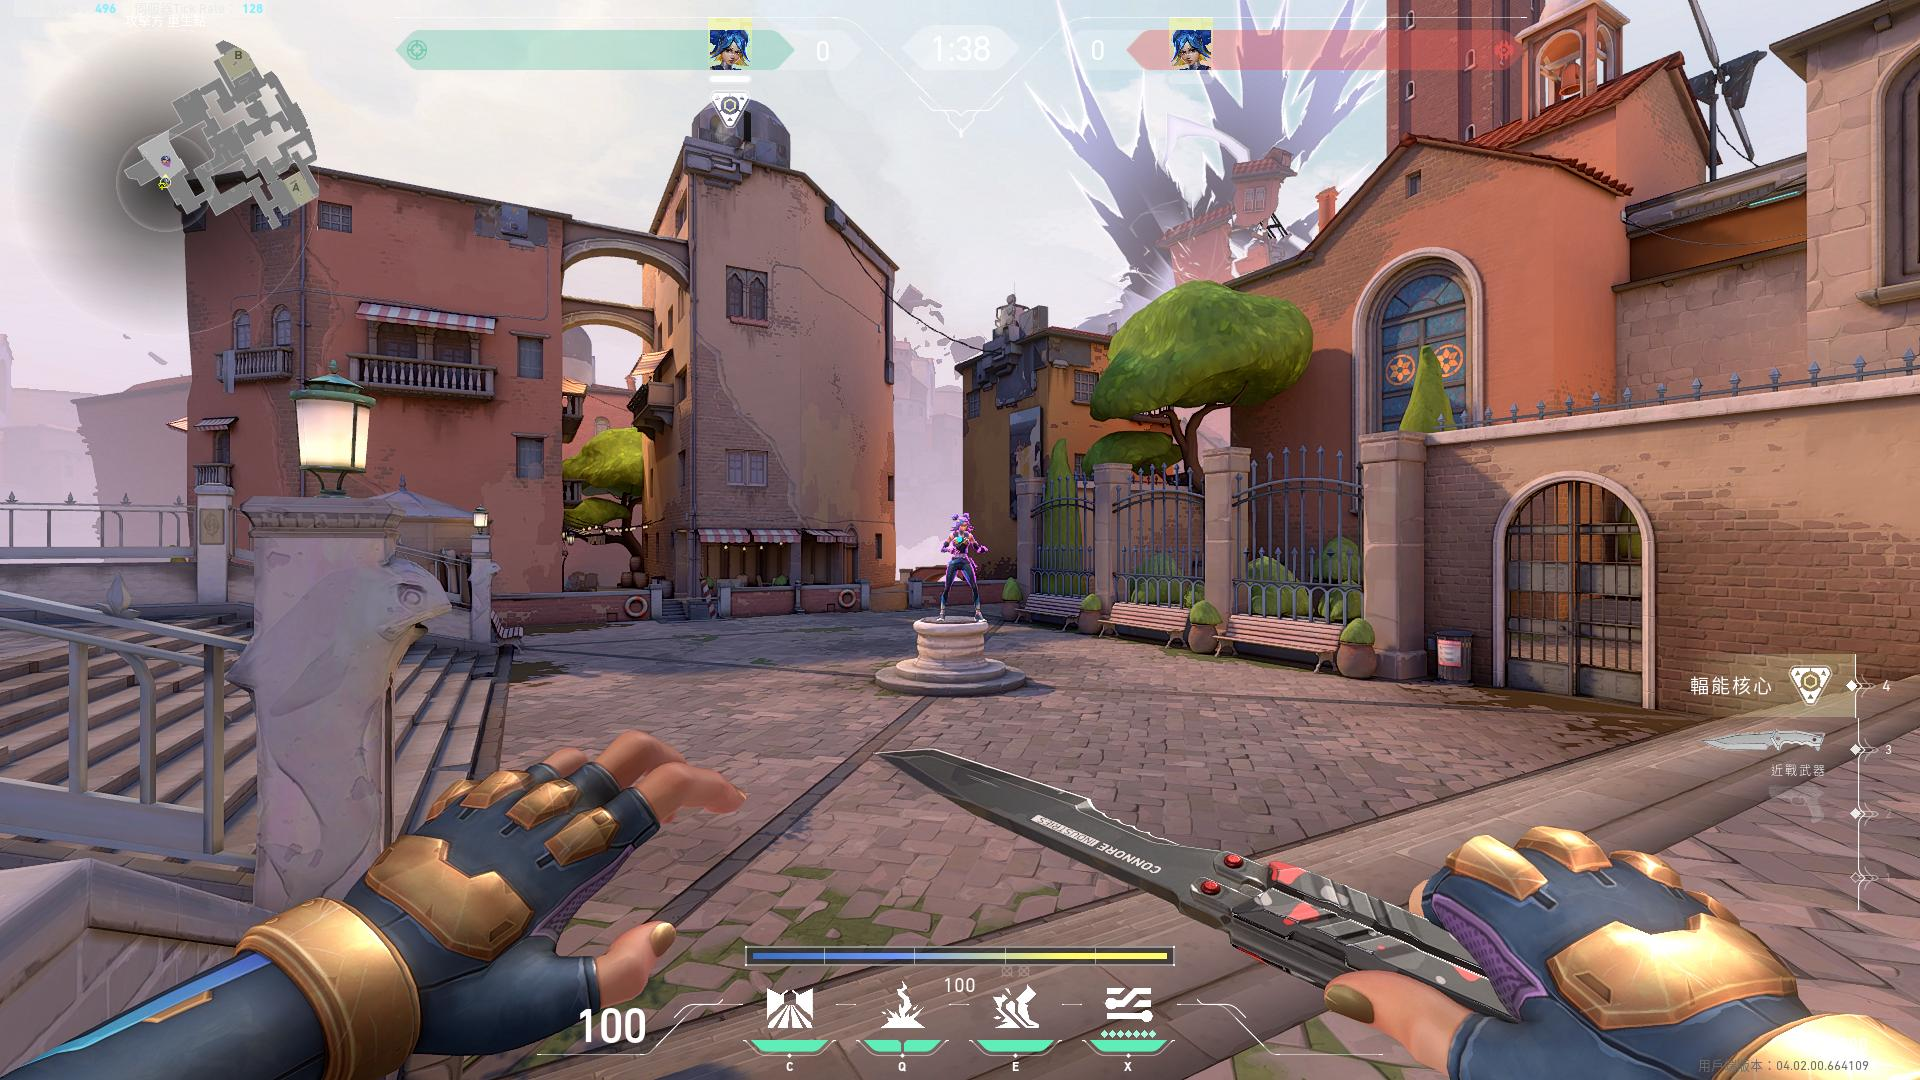enemyBody: (955, 533, 968, 555)
enemyHead: (957, 518, 968, 530)
